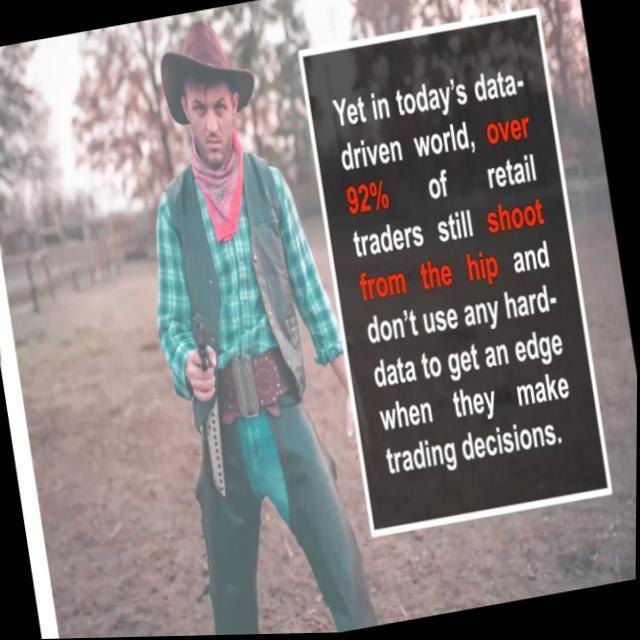weapon: (186, 307, 223, 410)
